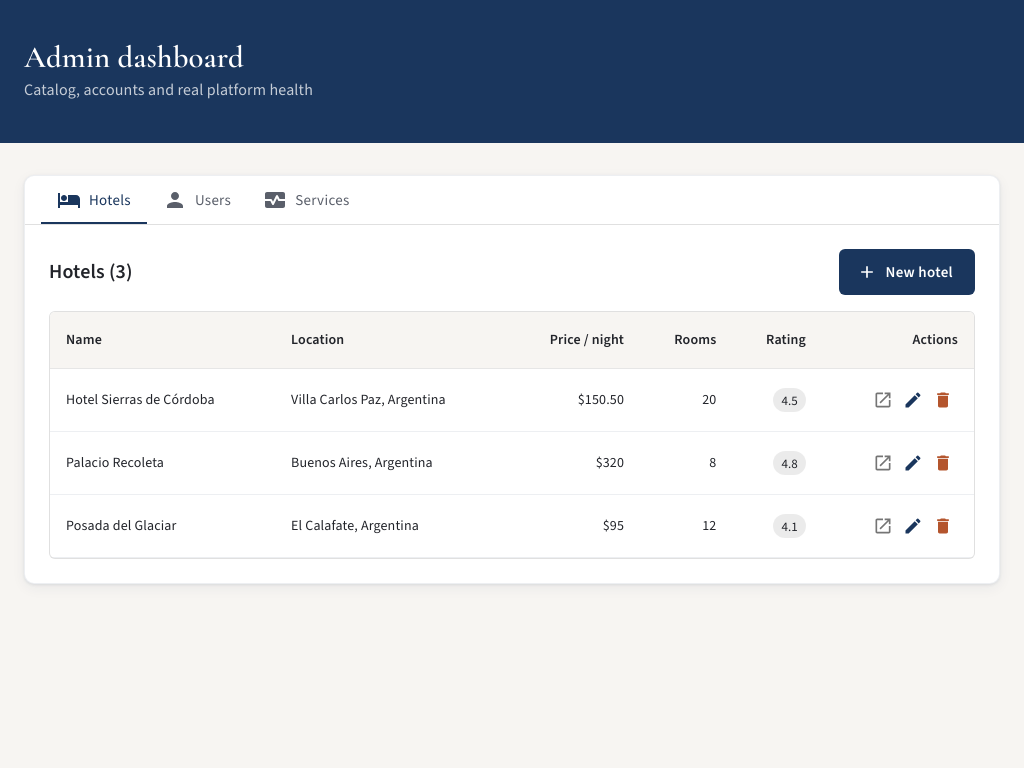
Scenario: Admin Dashboard › Services: estado real {services, summary} del plan 11, read-only
This screenshot has width=1024, height=768.
Click the tab "Services".
click(306, 200)  # box [247,176,366,224]
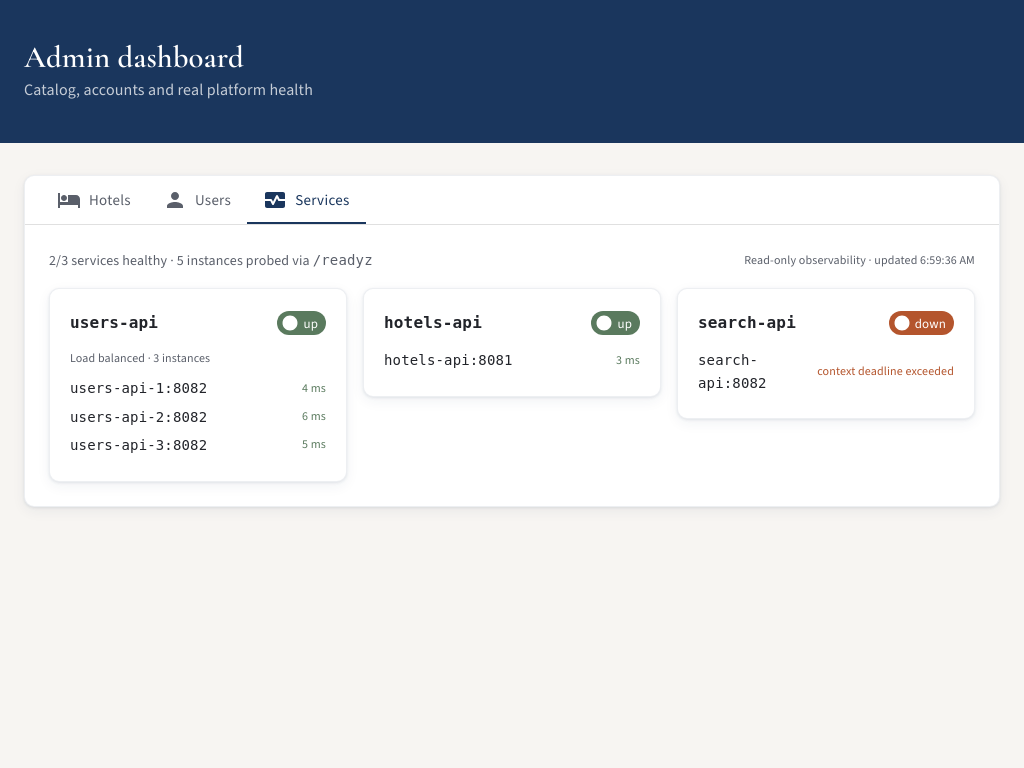
Now the text "2/3 services healthy · 5 instances probed via /readyz" is shown, box [49,249,373,272]
Now the text "4 ms" is shown, box [302,379,326,398]
Now the text "down" is shown, box [915,315,946,332]
